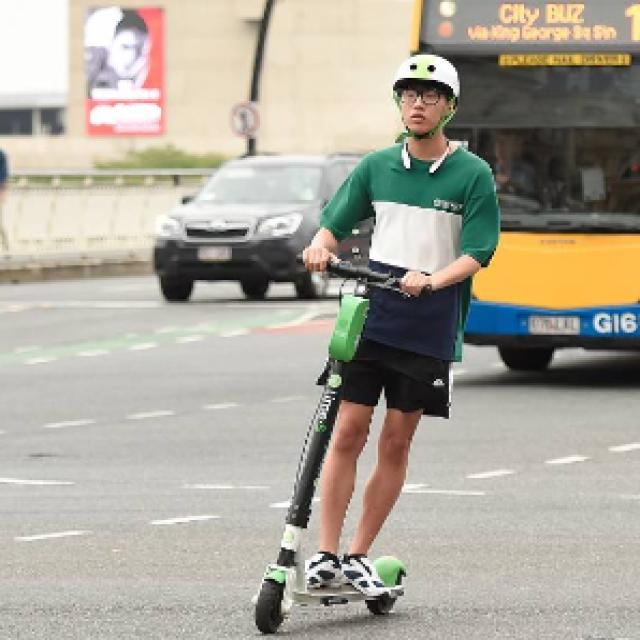helmet: (232, 38, 513, 640)
